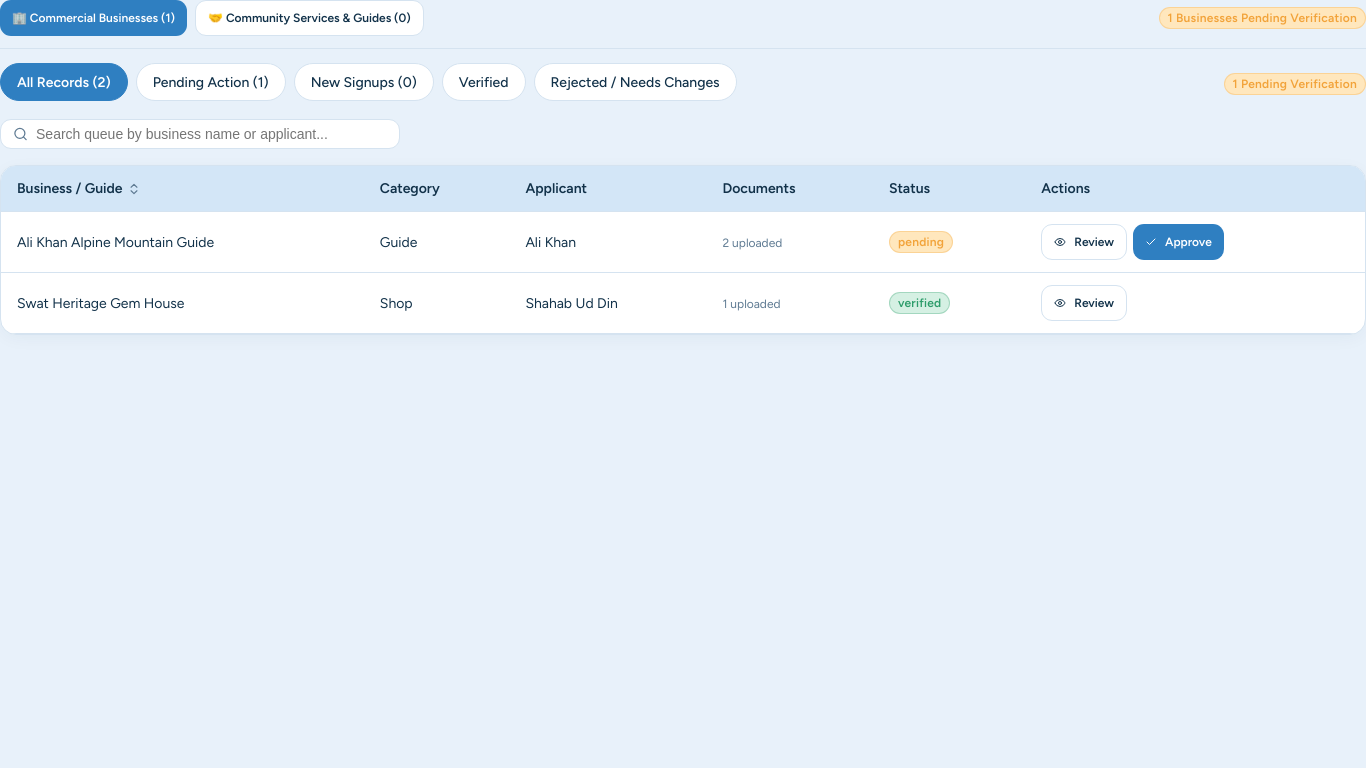
Step 3: Authority Verification & Visibility Gate › allows authority to inspect business documents and approve with one click
# Click Review button on the pending guide
What coordinates should you click on to do the following:
click the button with test id "btn-inspect-b-ali-khan"
I would click on:
 (1084, 242)
Its box is x1=1041 y1=224 x2=1127 y2=260.
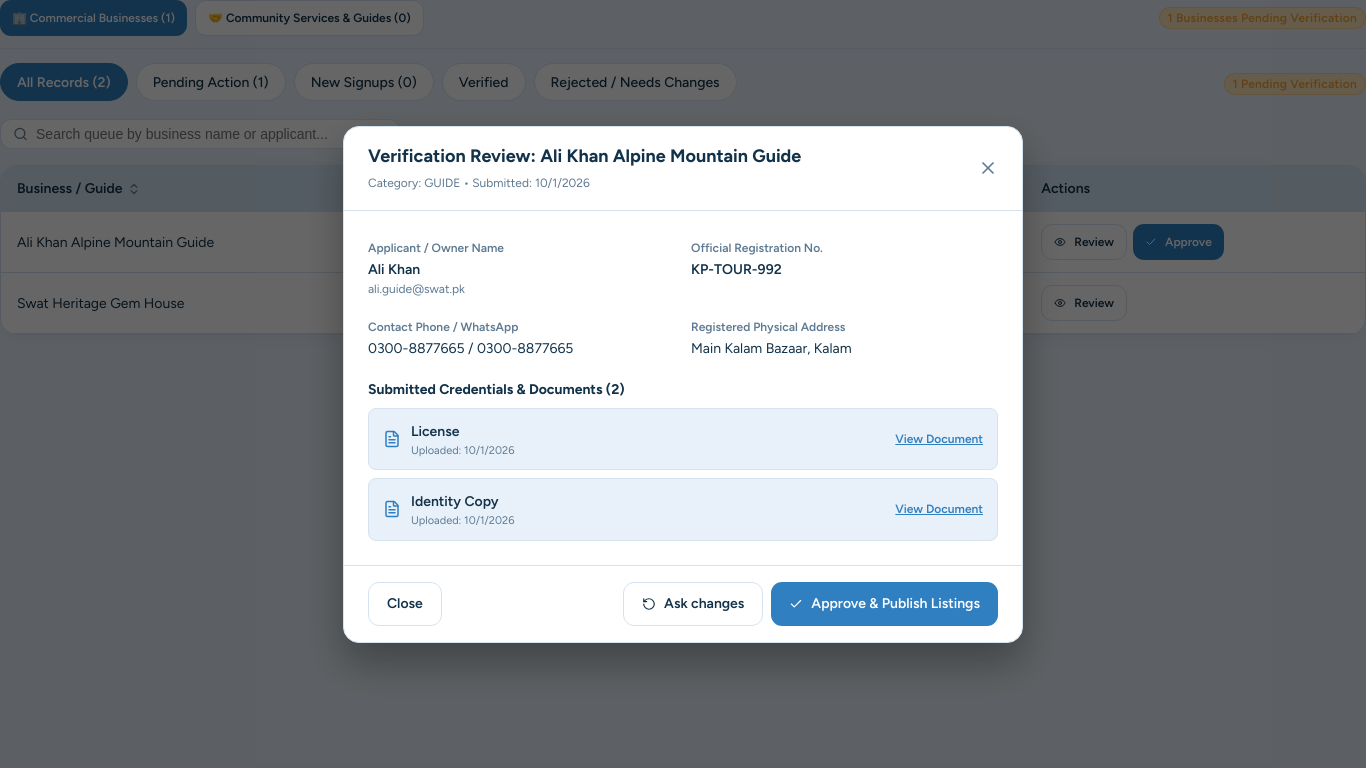
Result: the element with test id "verification-inspect-modal" is shown
Result: the heading "Verification Review: Ali Khan Alpine Mountain Guide" is shown at x1=368 y1=142 x2=801 y2=170
Result: the heading "Submitted Credentials & Documents (2)" is shown at x1=368 y1=380 x2=625 y2=398
# Click Approve
What coordinates should you click on to do the following:
click the button with test id "btn-modal-approve"
I would click on:
 (885, 604)
Its box is x1=771 y1=582 x2=998 y2=626.
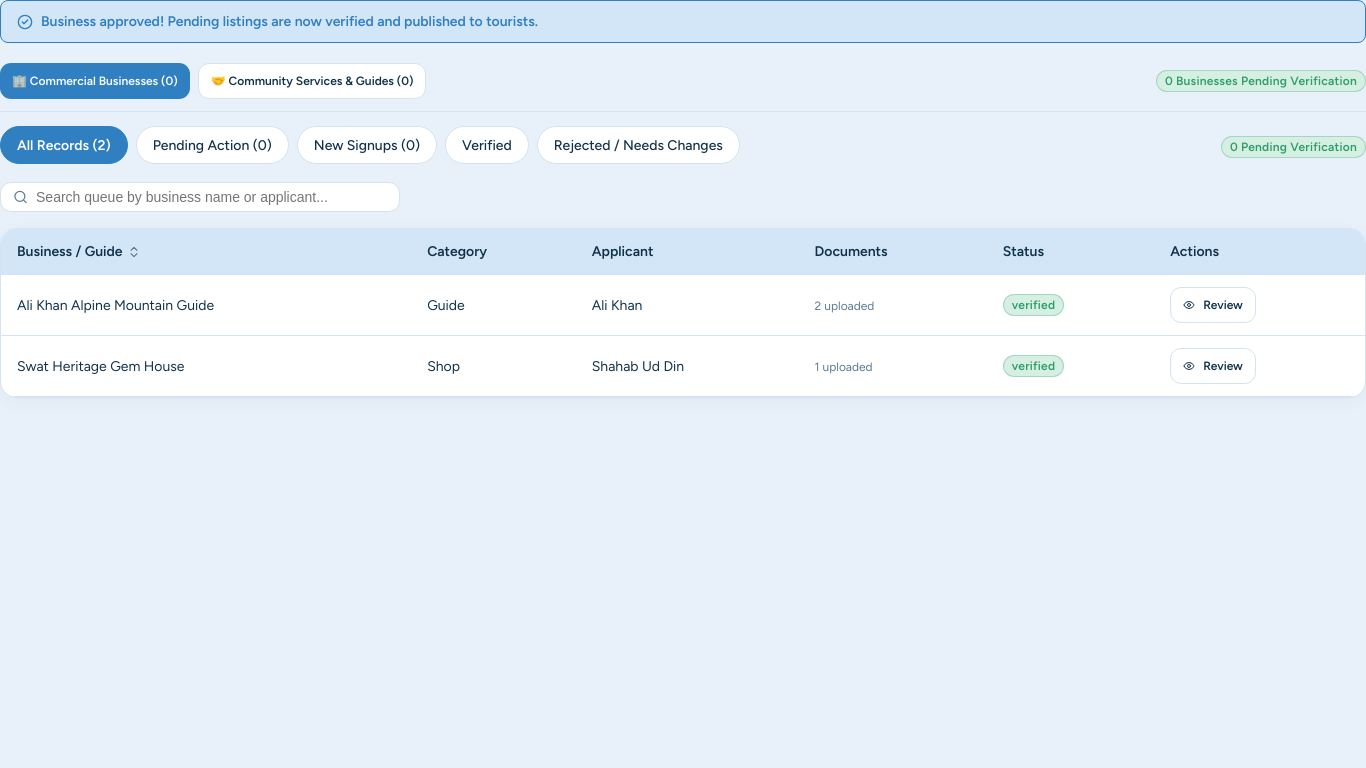
Result: the text "Business approved!" is shown at x1=41 y1=13 x2=538 y2=30
